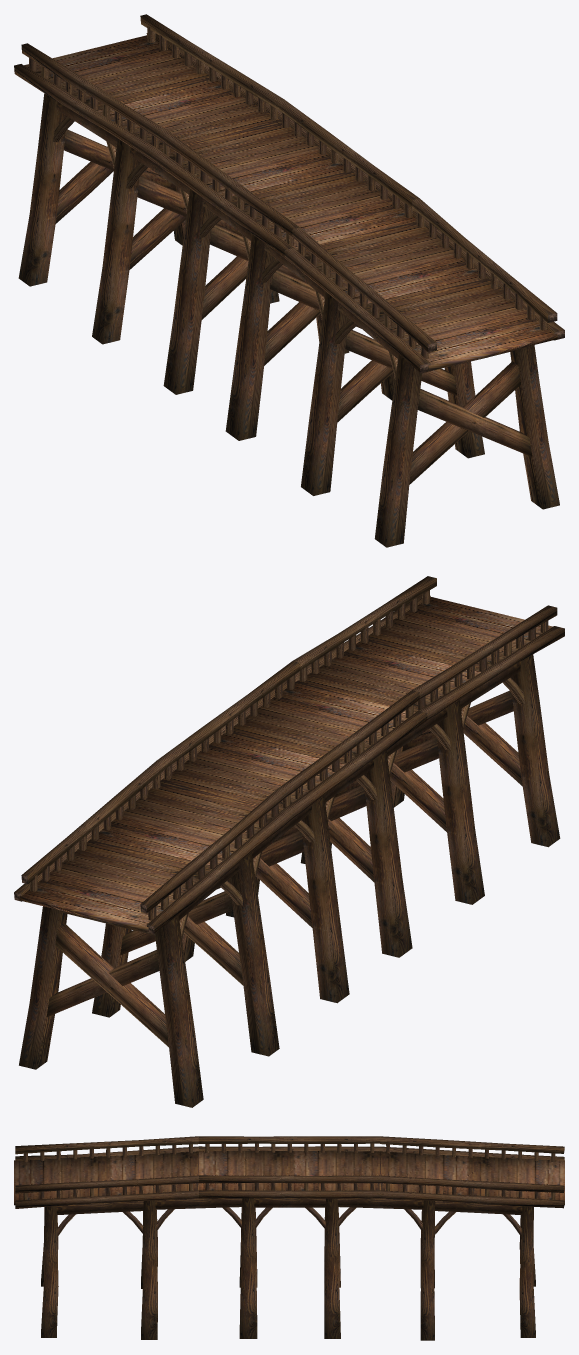
The model's file is Long Wood Bridge.fbx.
3 views of the same model, one above another, from view 1: azimuth 30°, elevation 25°; view 2: azimuth 150°, elevation 25°; view 3: azimuth 270°, elevation 25° (orthographic). The views are drawn at different scales.
Parts seen in each view (by area): view 1: object; view 2: object; view 3: object.
Part boxes in pixels (<box>): object: <box>14,14,564,547</box>; object: <box>14,576,564,1107</box>; object: <box>14,1136,564,1340</box>.
Bounding box in the file's own units: 8.41 × 10.44 × 33.68.
Materials: 1 (1 with a texture image).
